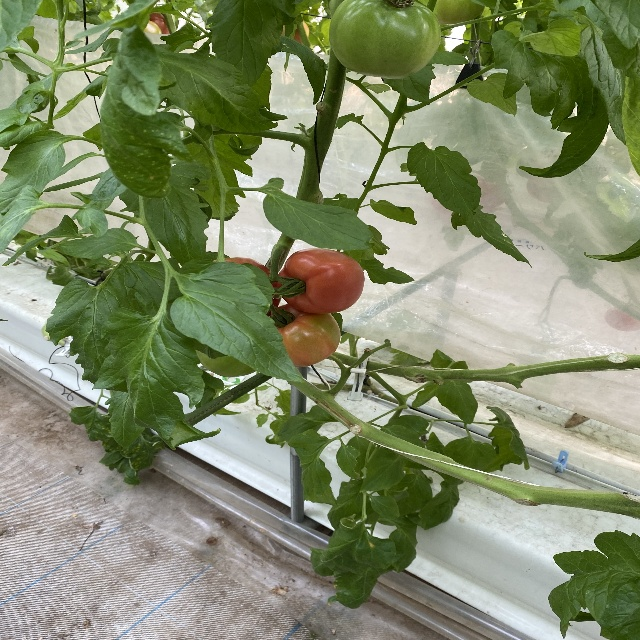b_fully_ripened: (277, 247, 365, 314)
b_green: (329, 0, 441, 79), (415, 0, 486, 25)
b_half_ripened: (268, 303, 341, 367)
